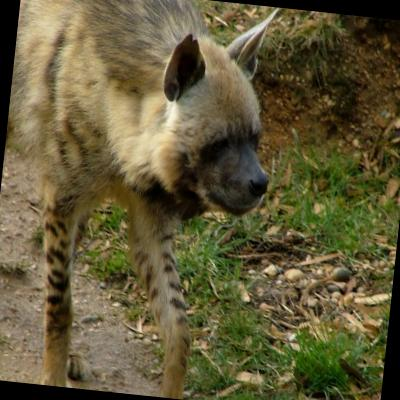hyenas: (0, 0, 377, 400)
